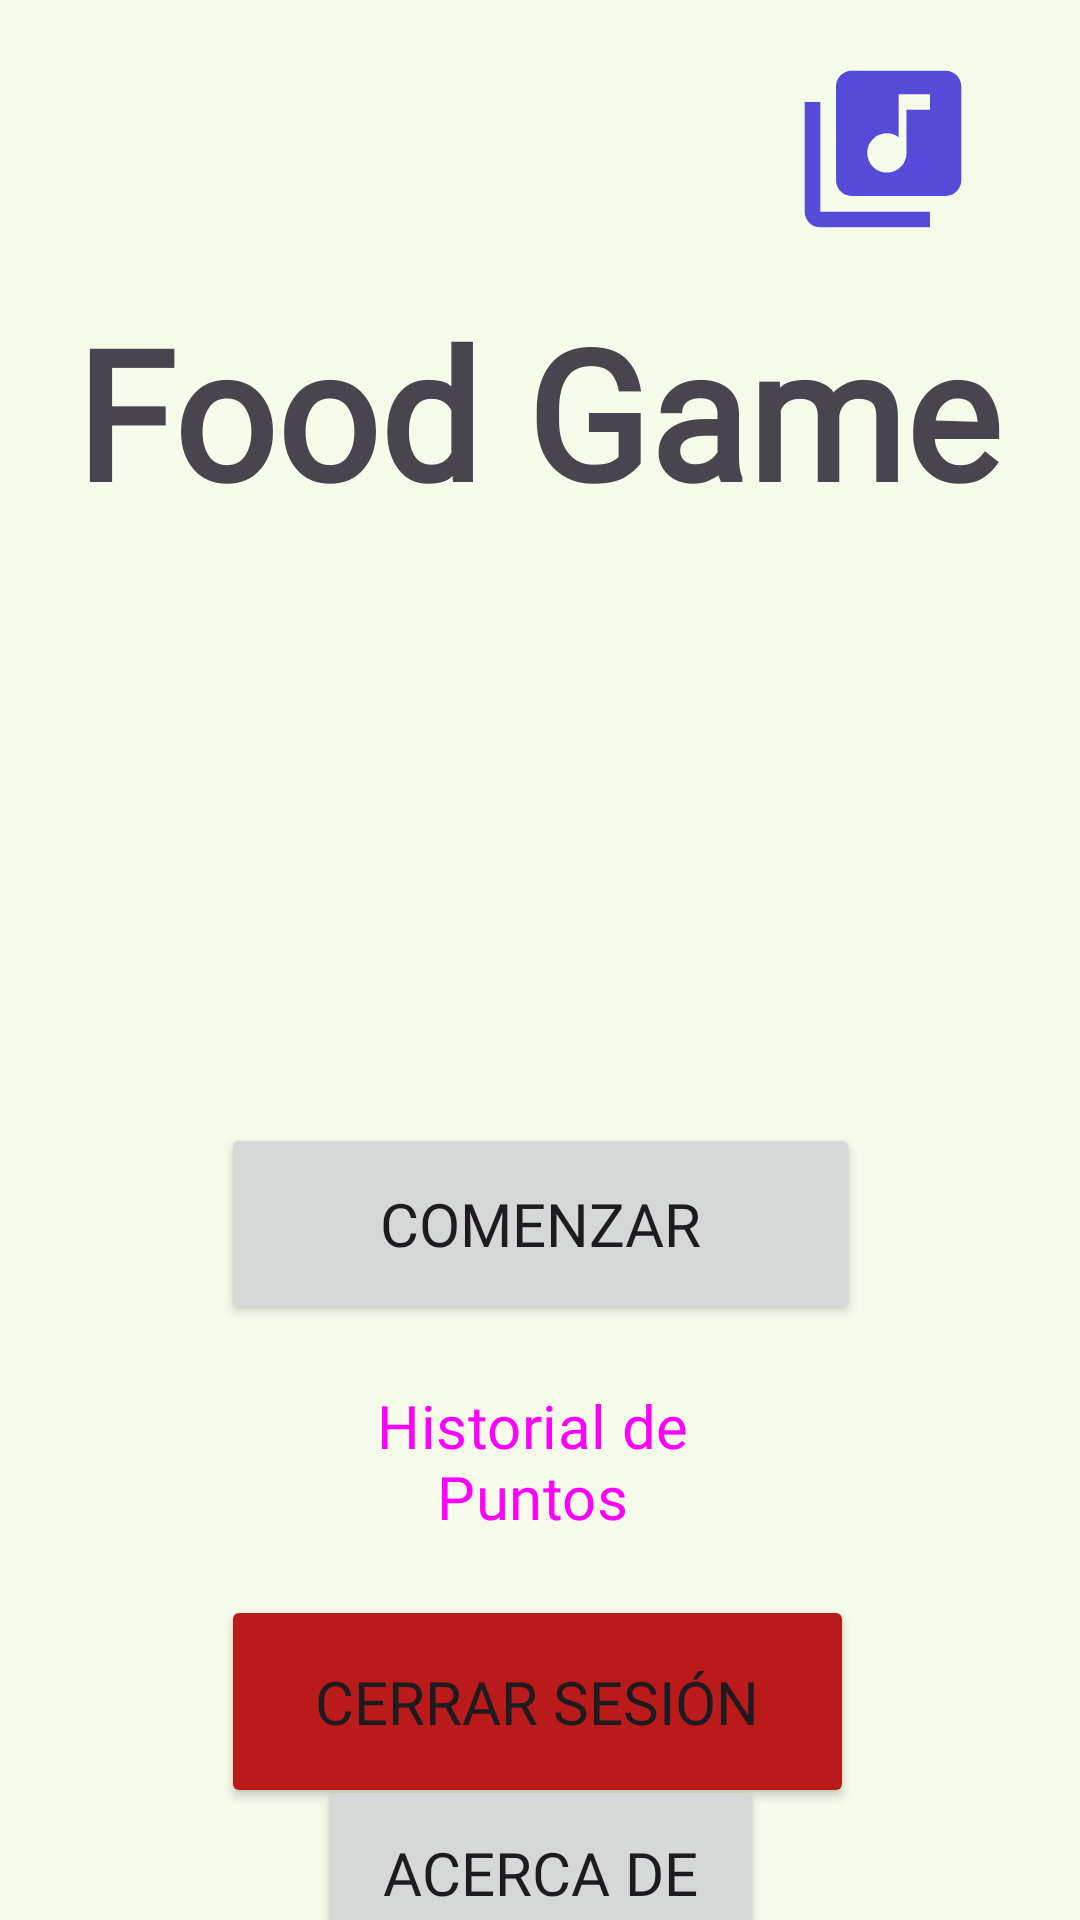

Where icons sit on this 1080x1920 app screen, as (x1, y1, x2, y2):
musica: (804, 70, 962, 228)
